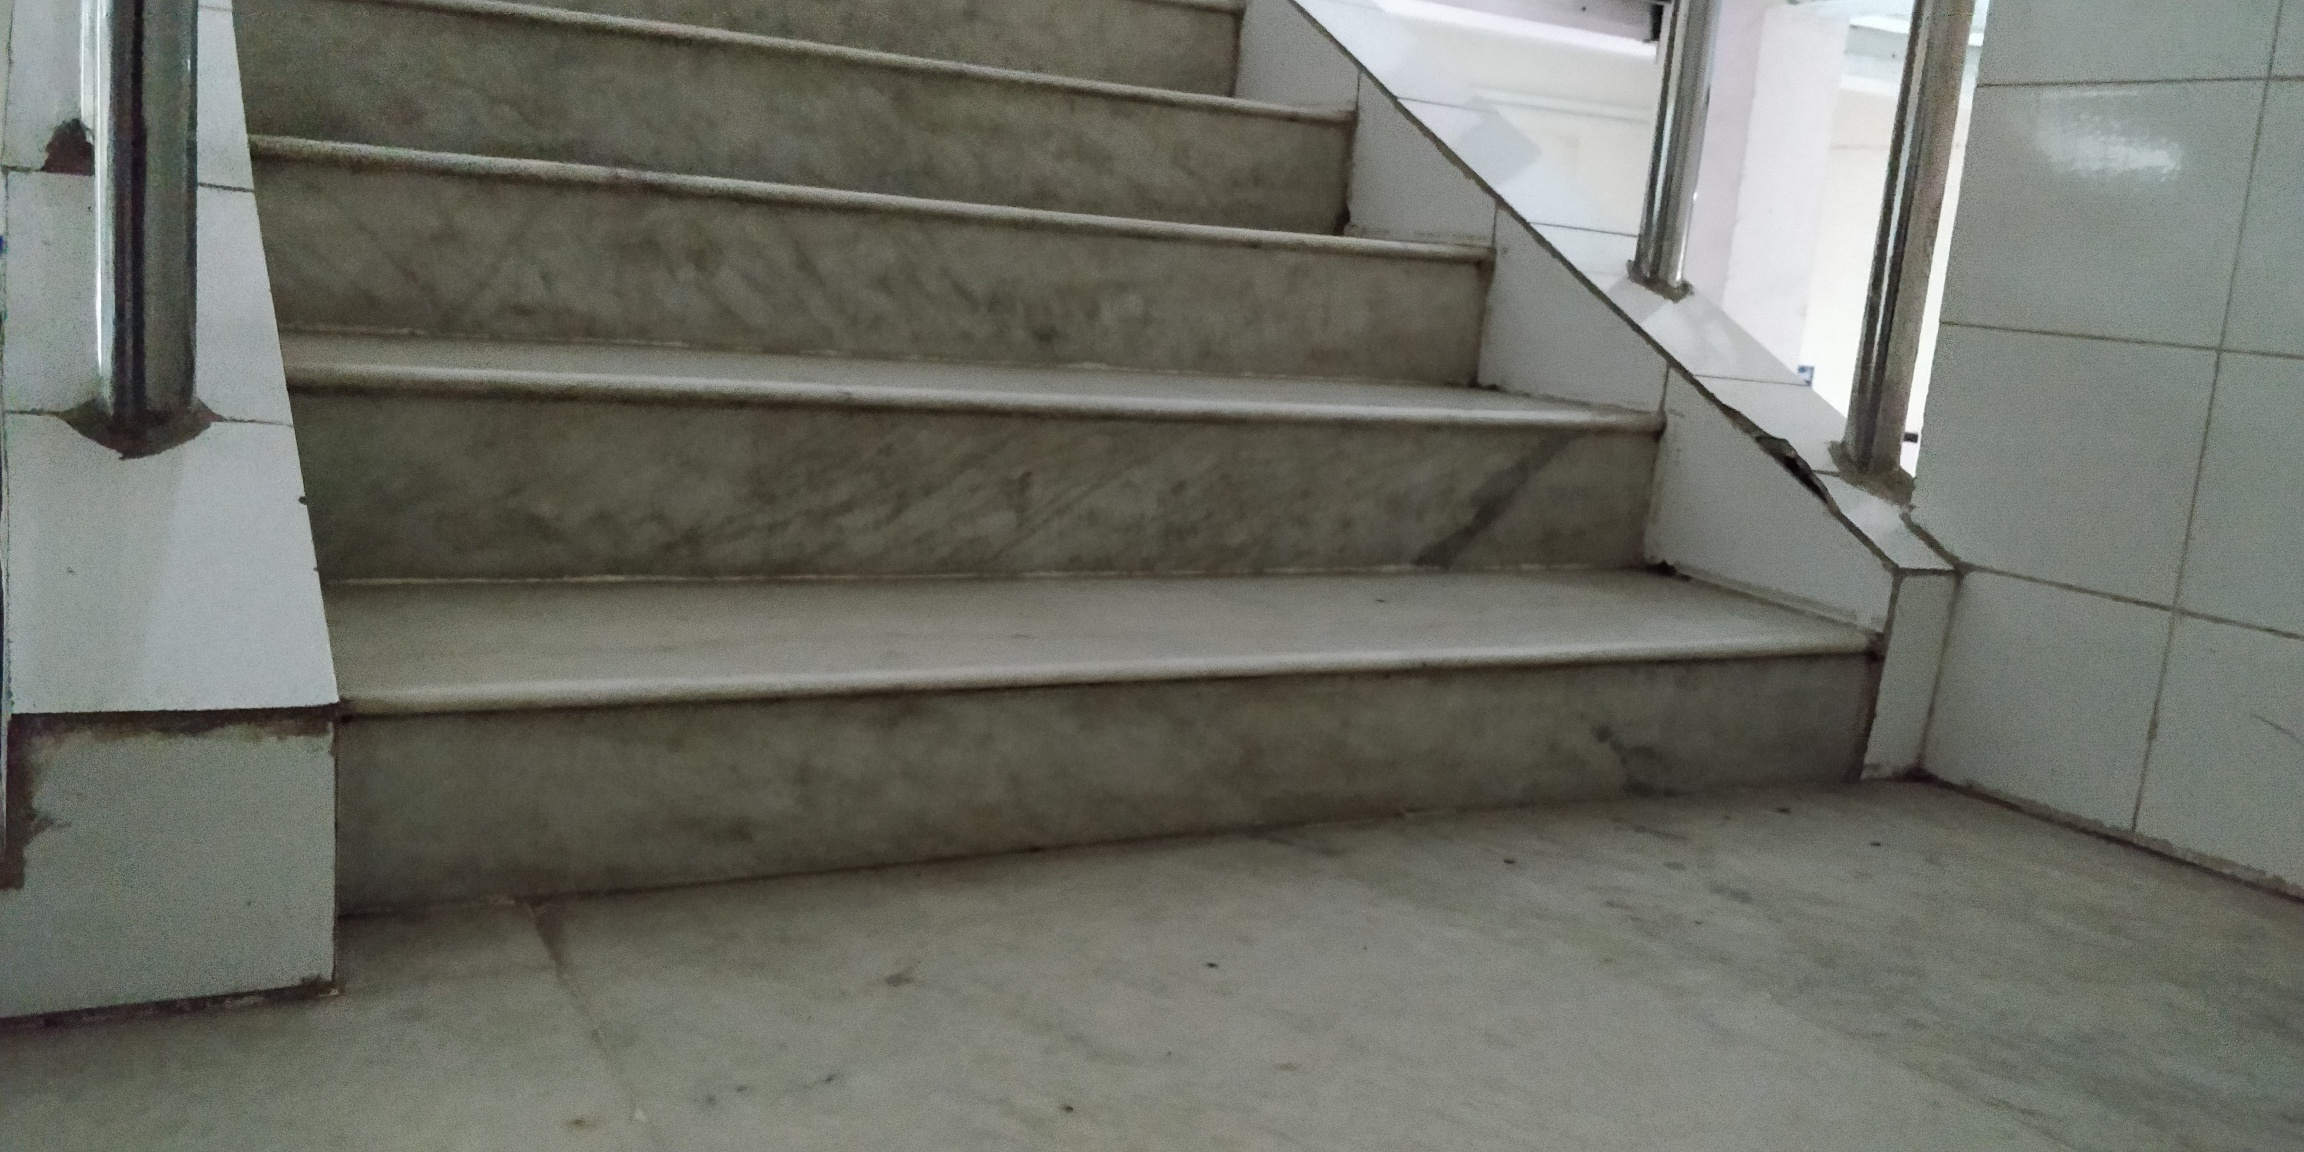stairs_up: (198, 1, 1966, 927)
